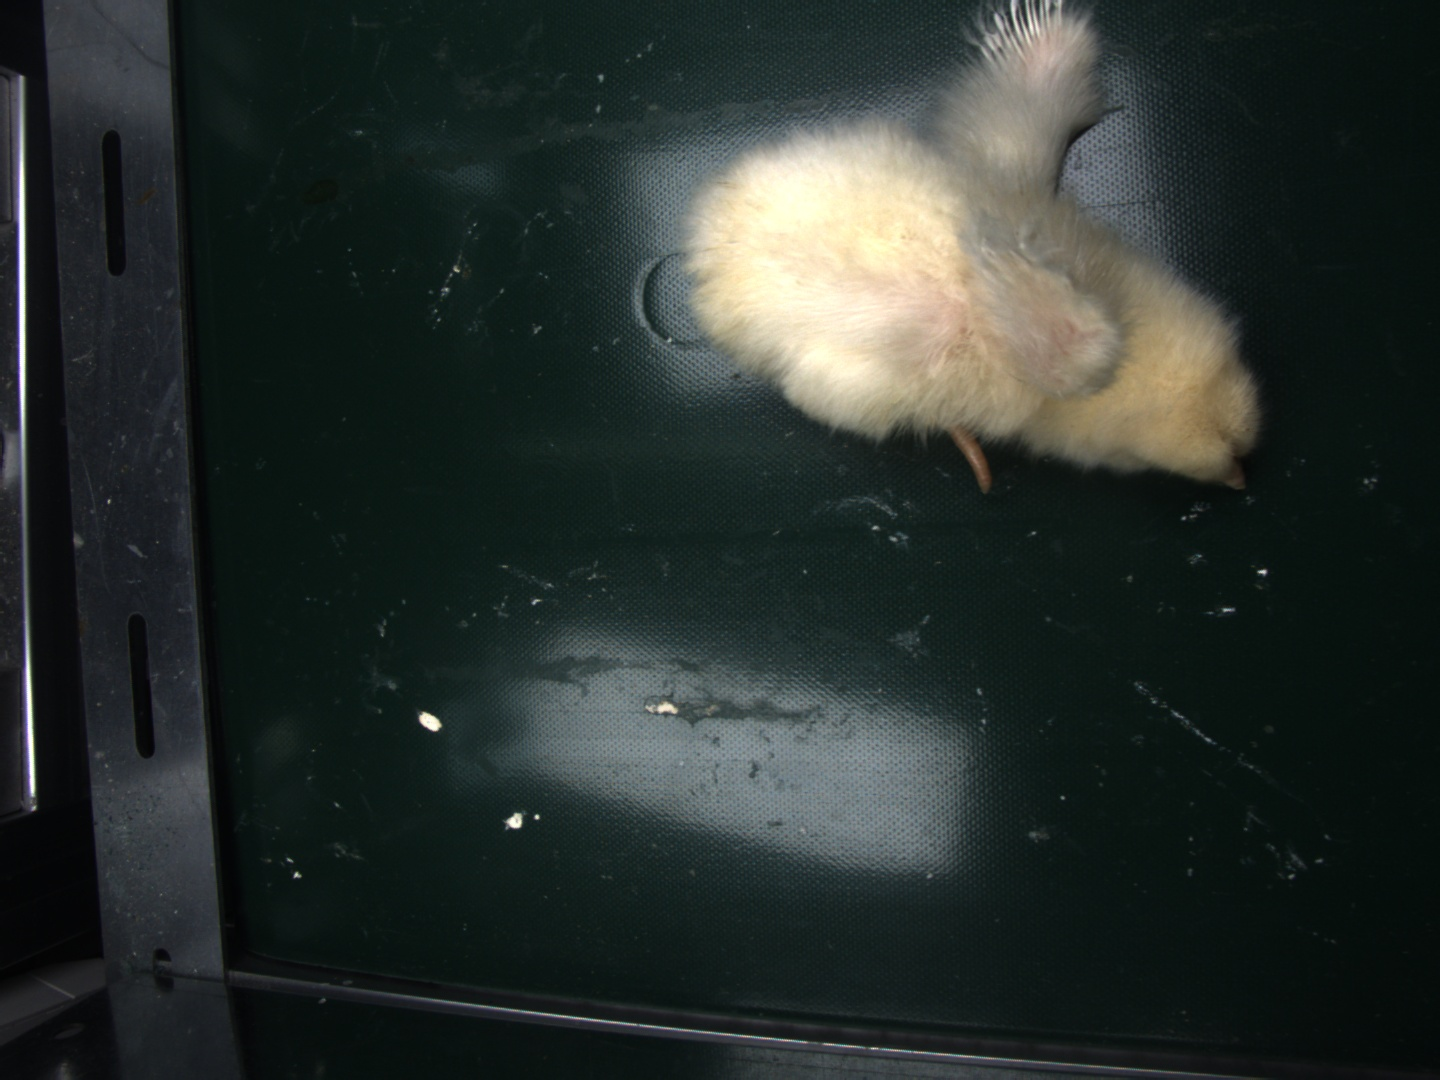male: (986, 3, 1062, 64)
